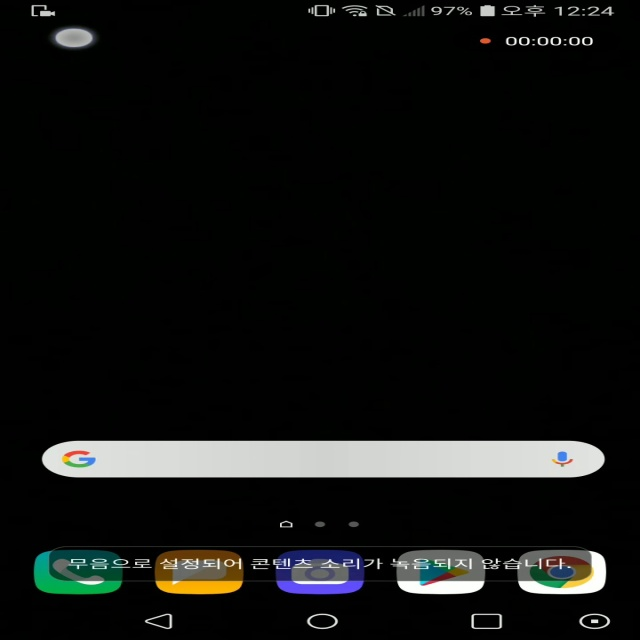Cursor: (51, 27, 96, 50)
